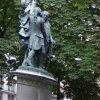Statue: (14, 3, 64, 84)
